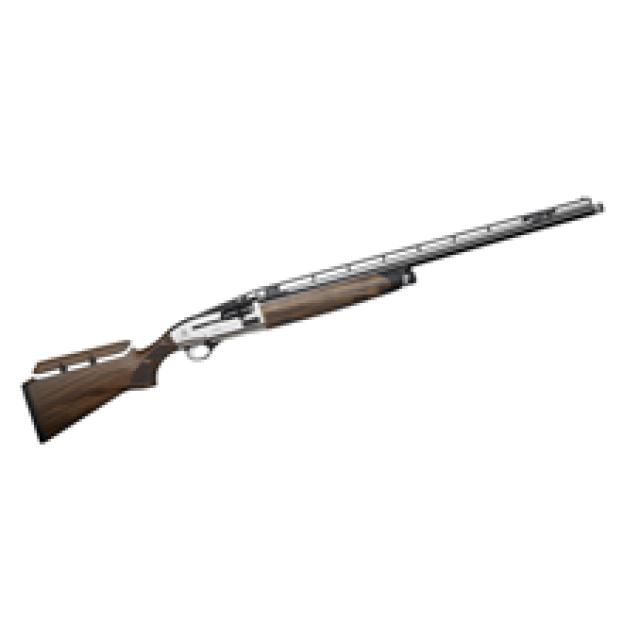rifle: (13, 187, 613, 451)
